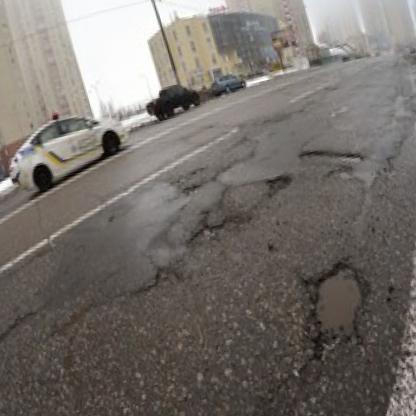pothole: (292, 253, 378, 353), (299, 136, 362, 174), (187, 216, 238, 243), (150, 262, 185, 297), (266, 171, 294, 196), (184, 182, 202, 194)
